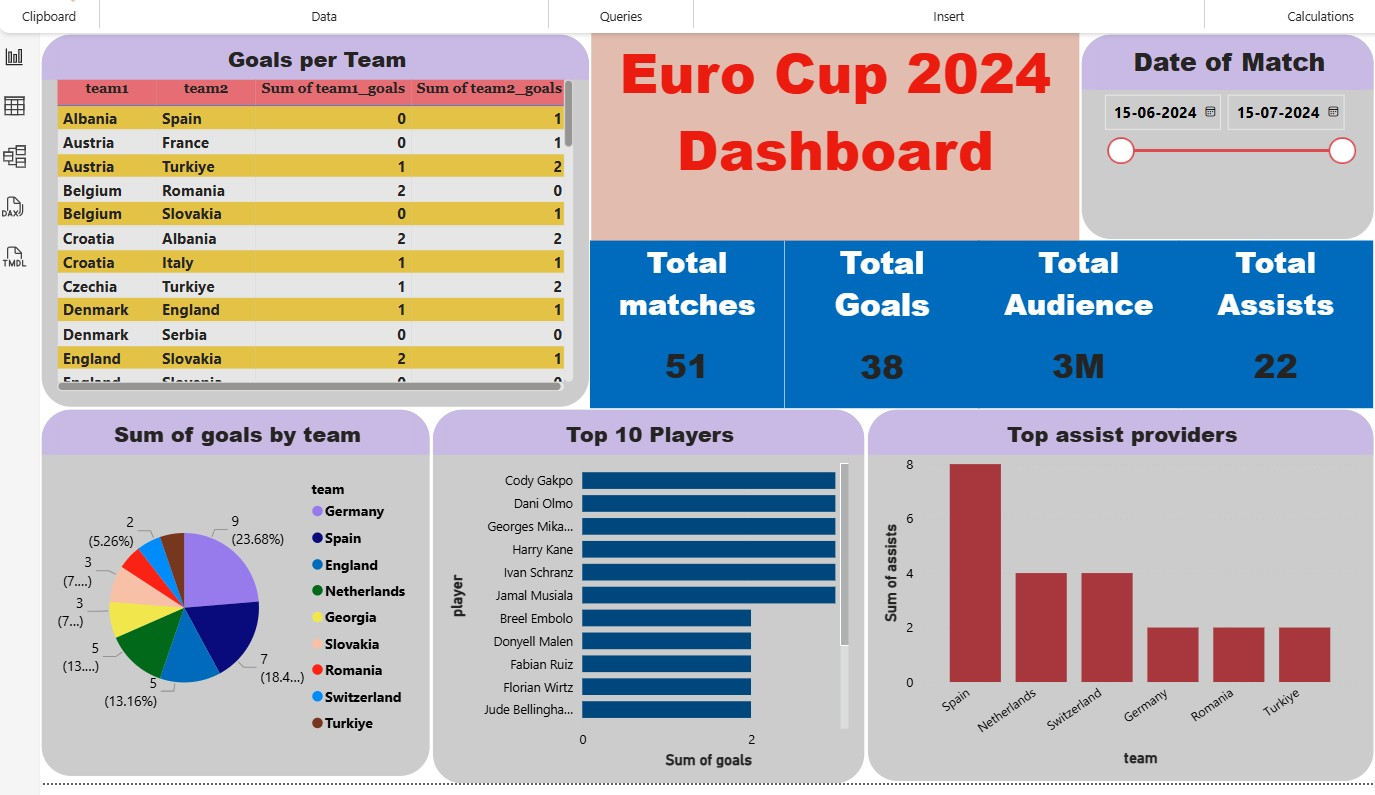

The dashboard page shown, as its layout file describes it:
{"tool":"powerbi","page":{"name":"Page 1","canvas":[1280,720],"ordinal":0},"visuals":[{"type":"pieChart","fields":{"Category":["public goals.team"],"Y":["Sum(public goals.goals)"]},"box":[0,359.5,375.5,354.2],"z":0},{"type":"barChart","title":"Top 10 Players","fields":{"Category":["public goals.player"],"Y":["Sum(public goals.goals)"]},"box":[375.5,359.5,416.5,361.3],"z":1000},{"type":"columnChart","title":"Top assist providers","fields":{"Category":["public assists.team"],"Y":["Sum(public assists.assists)"]},"box":[792,359.5,487.7,359.5],"z":2000},{"type":"tableEx","title":"Goals per Team","fields":{"Values":["public matches.team1","public matches.team2","Sum(public matches.team1_goals)","Sum(public matches.team2_goals)"]},"box":[0,0,527.6,359.8],"z":3000},{"type":"slicer","title":"Date of Match","fields":{"Values":["public matches.date_of_match"]},"box":[996.7,0,283,199.3],"z":4000},{"type":"card","title":"Total matches","fields":{"Values":["public matches.total_matches"]},"box":[527.6,199.1,186.3,160.7],"z":5000},{"type":"card","title":"Total Goals","fields":{"Values":["public goals.total_goals"]},"box":[714,199.1,186.3,160.7],"z":6000},{"type":"card","title":"Total Audience","fields":{"Values":["public matches.total_audience"]},"box":[900.3,199.1,192,160.7],"z":7000},{"type":"card","title":"Total Assists","fields":{"Values":["public assists.total_assists"]},"box":[1092.3,199.1,186.3,160.7],"z":7001},{"type":"textbox","title":"Euro Cup 2024 Dashboard","box":[528.6,0,468.1,199.3],"z":7002}]}

Visuals, with their boxes on the page's 1280x720 design canvas (x1, y1, x2, y2). These are canvas units, not pixel positions in the 1375x795 screenshot, which may show the page scaled, cropped or inside an application window:
pieChart - public goals.team x Sum(public goals.goals): (0, 360, 376, 714)
"Top 10 Players" barChart: (376, 360, 792, 721)
"Top assist providers" columnChart: (792, 360, 1280, 719)
"Goals per Team" tableEx: (0, 0, 528, 360)
"Date of Match" slicer: (997, 0, 1280, 199)
"Total matches" card: (528, 199, 714, 360)
"Total Goals" card: (714, 199, 900, 360)
"Total Audience" card: (900, 199, 1092, 360)
"Total Assists" card: (1092, 199, 1279, 360)
"Euro Cup 2024 Dashboard" textbox: (529, 0, 997, 199)
